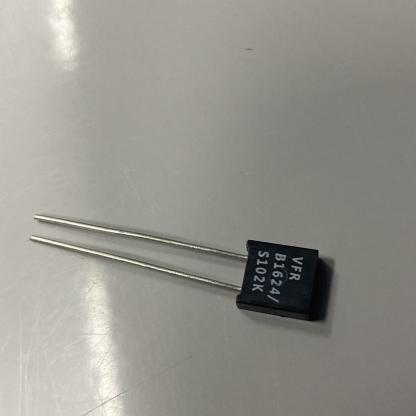SP0000008: (0, 154, 373, 348)
